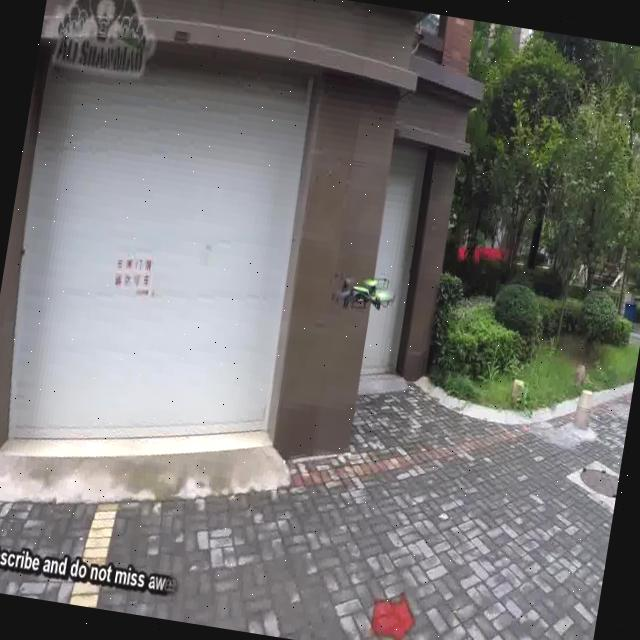drone: (308, 249, 411, 333)
